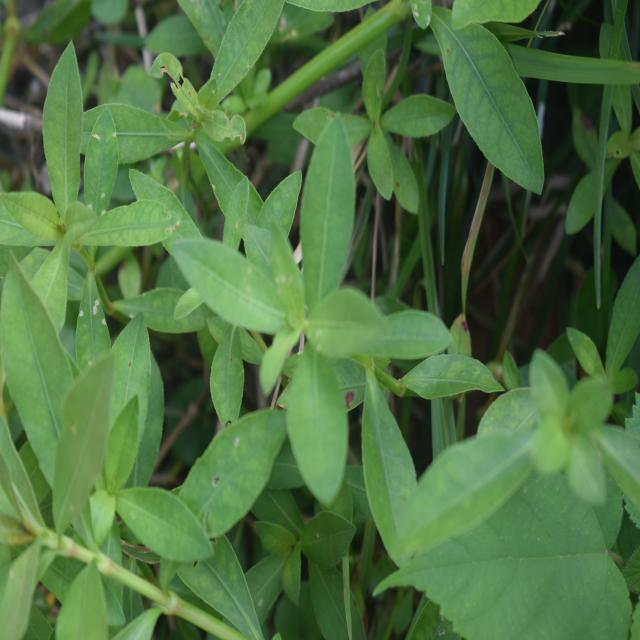Alligatorweed: (178, 181, 452, 531)
